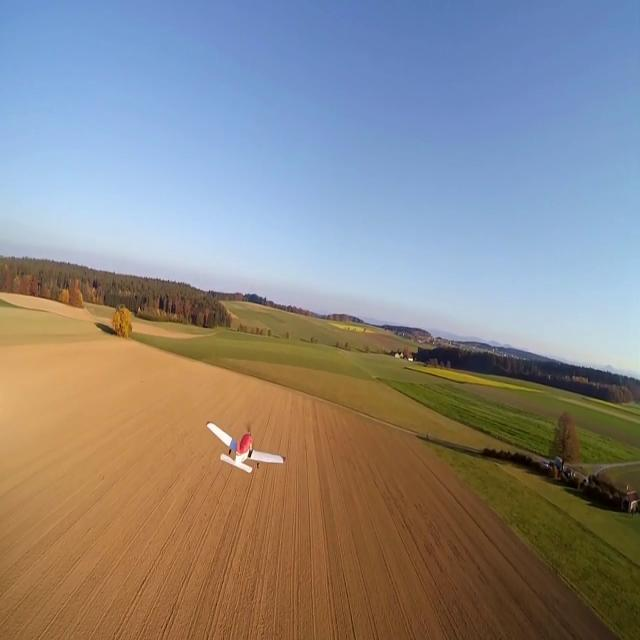iha: (238, 419, 255, 474)
